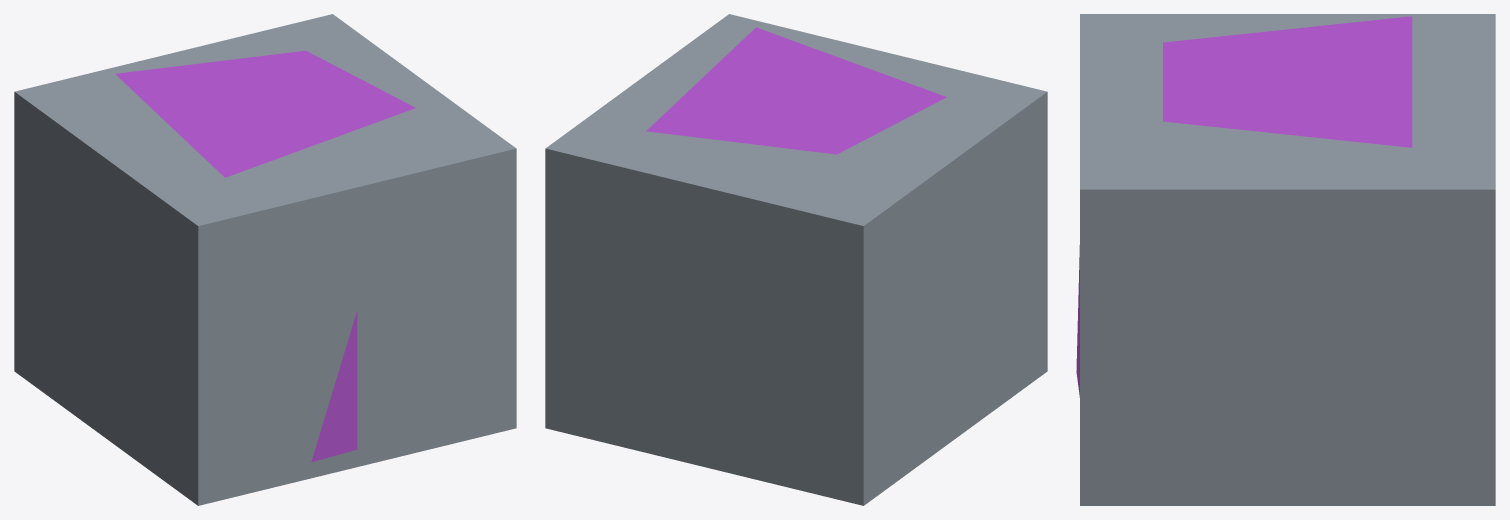
The model's file is CH_StasisProjectorBuilding_LOD1.glb.
3 renders of one model, left to right at view 1: azimuth 30°, elevation 25°; view 2: azimuth 150°, elevation 25°; view 3: azimuth 270°, elevation 25°, orthographic. The views are drawn at different scales.
Visible parts, largest first — view 1: EntranceGate; view 2: EntranceGate; view 3: EntranceGate.
Part boxes in pixels (x1,y1,x2,y2): EntranceGate: (14, 14, 516, 505); EntranceGate: (545, 14, 1047, 505); EntranceGate: (1076, 14, 1495, 505).
Size of the model in its own units: 400 by 371 by 403.
